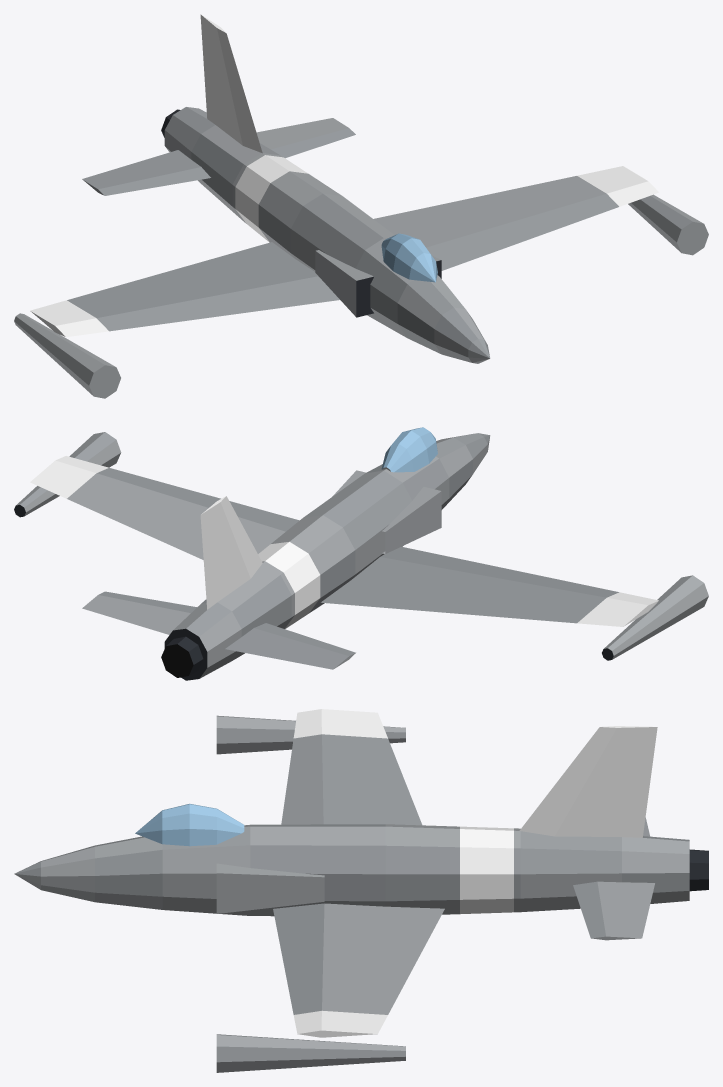
3 views of the same model, one above another, from view 1: azimuth 30°, elevation 25°; view 2: azimuth 150°, elevation 25°; view 3: azimuth 270°, elevation 25° (orthographic). The views are drawn at different scales.
Parts seen in each view (by area): view 1: body; view 2: body; view 3: body.
Part boxes in pixels (x1=…): body: x1=14, y1=14, x2=708, y2=398; body: x1=14, y1=427, x2=708, y2=680; body: x1=14, y1=709, x2=708, y2=1072.
Bounding box in the file's own units: 12.34 × 3.21 × 10.79.
